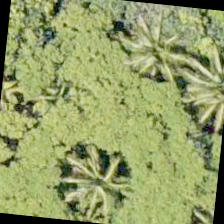Kelapa_Sawit: (117, 9, 216, 108), (52, 141, 151, 223)
